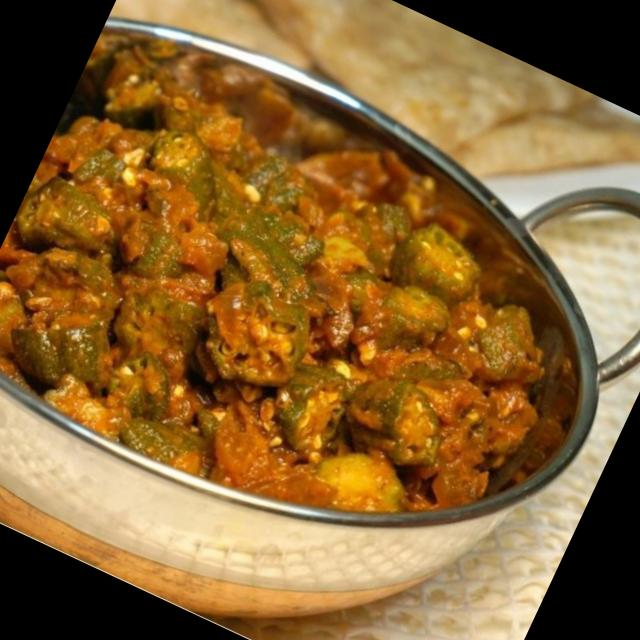BhindiMasala: (0, 27, 609, 600)
